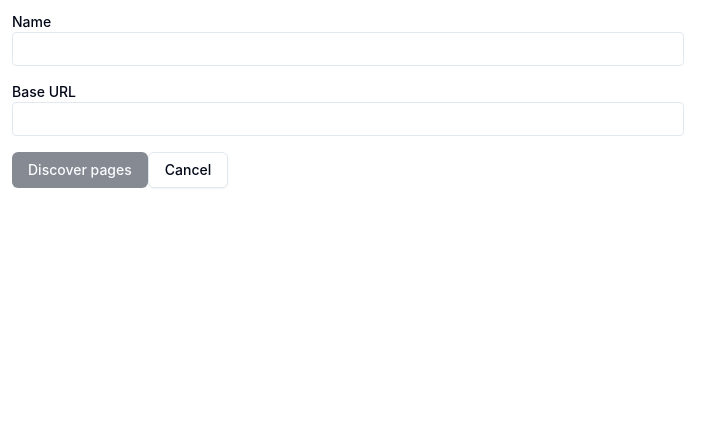
SiteWizard › PDF candidates are filtered out of the rendered list
This screenshot has width=701, height=429.
Step 1. Type "X" into the field labelled "Name" → (348, 49), box [12,32,684,66]
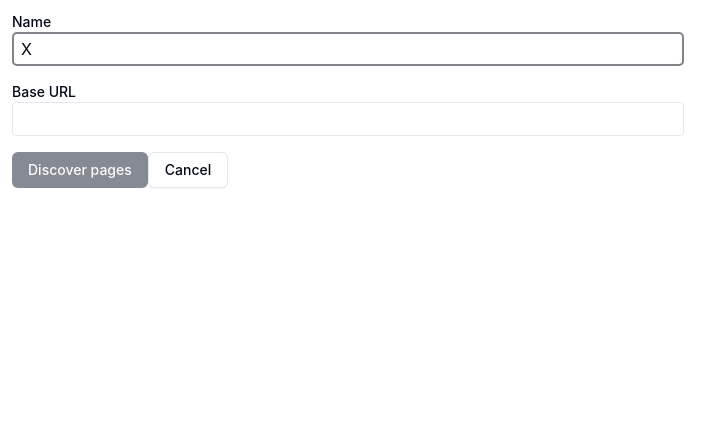
Step 2. Type "https://x" into the field labelled "Base URL" → (348, 119), box [12,102,684,136]
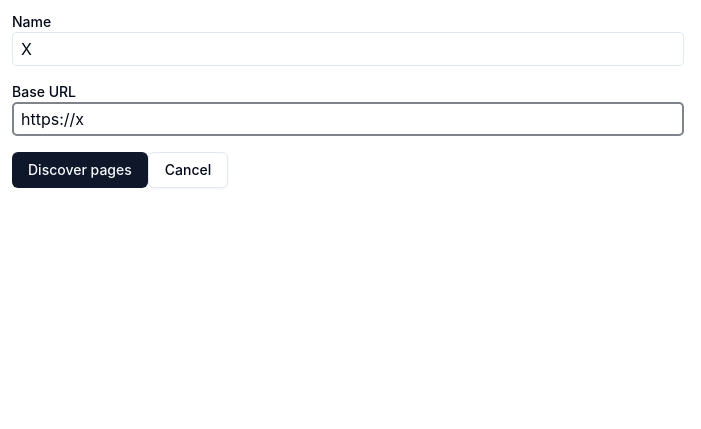
Step 3. Click the button "Discover pages" → (80, 170), box [12,152,148,188]
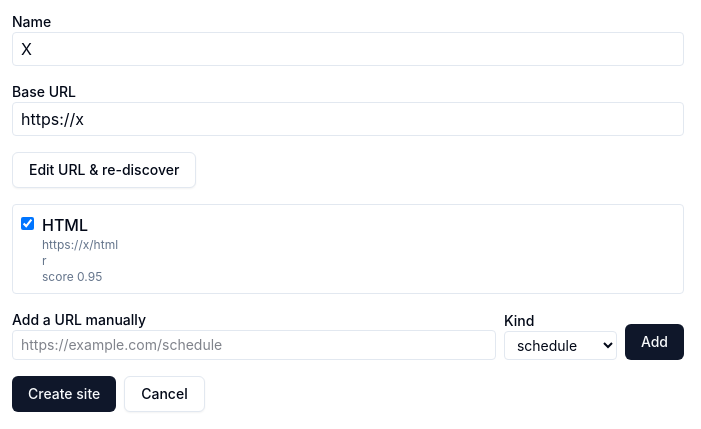
Result: the text "HTML" is shown at [42,215,88,235]
